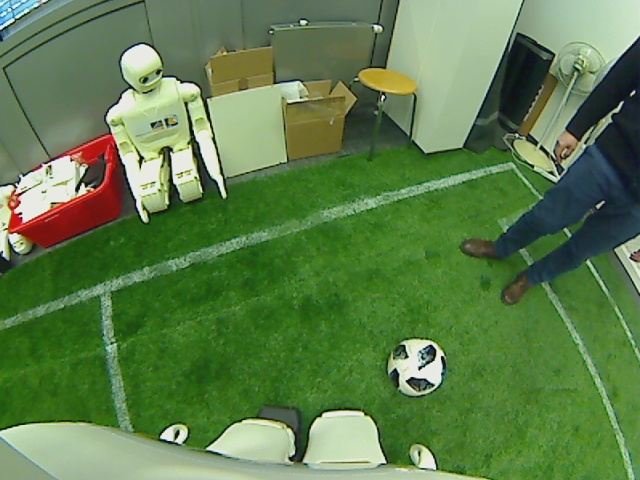ball: (385, 336, 447, 398)
